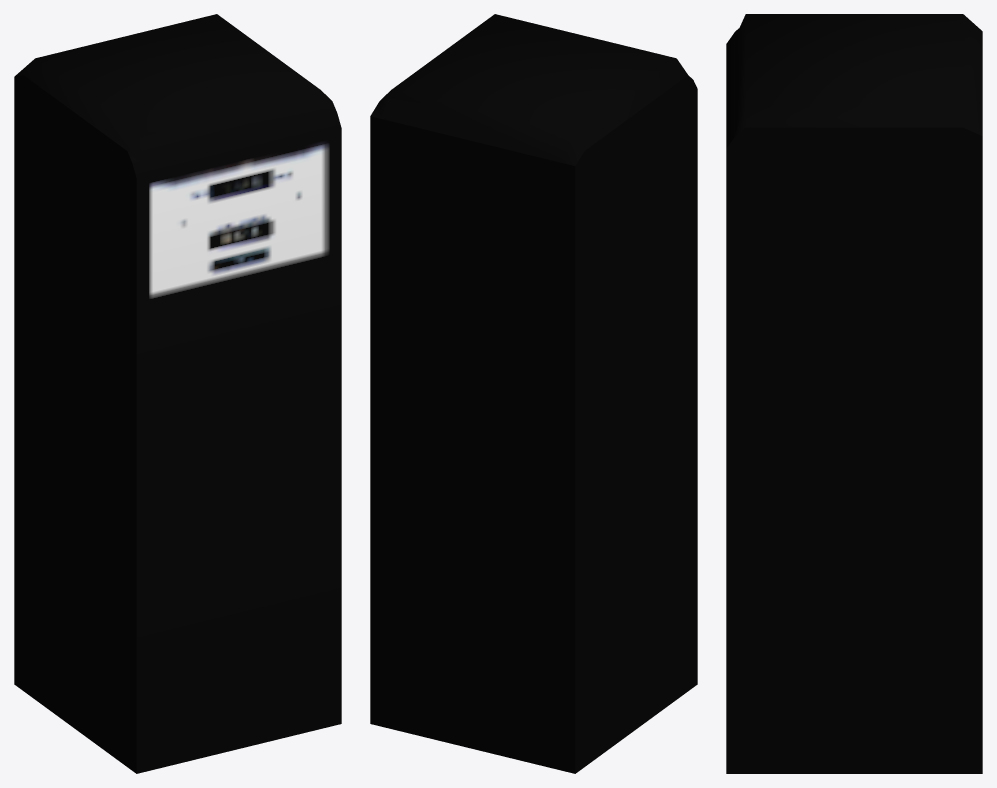
File: gas station.FBX
3 renders of one model, left to right at view 1: azimuth 30°, elevation 25°; view 2: azimuth 150°, elevation 25°; view 3: azimuth 270°, elevation 25°, orthographic. The views are drawn at different scales.
Parts seen in each view (by area): view 1: Box001; view 2: Box001; view 3: Box001.
Part boxes in pixels (bbox=[...]): Box001: bbox=[14, 14, 341, 773]; Box001: bbox=[370, 14, 697, 773]; Box001: bbox=[726, 14, 982, 773].
Bounding box in the file's own units: 14.27 × 41.92 × 14.75.
